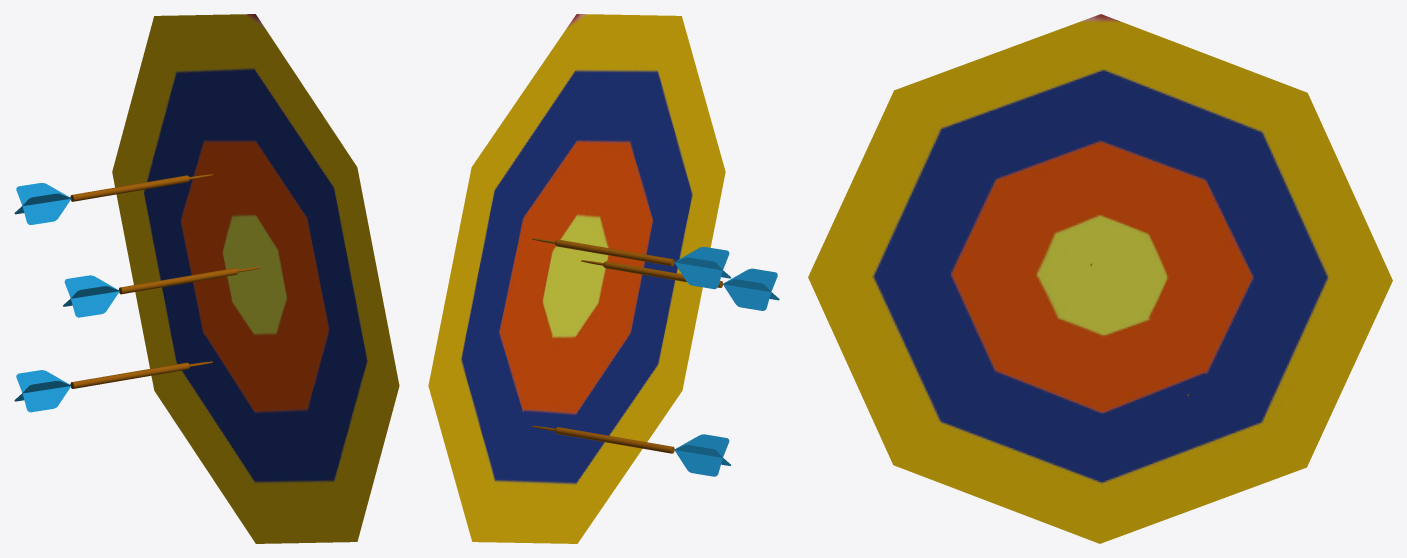
The model's file is tiroalblanco.fbx.
3 renders of one model, left to right at view 1: azimuth 30°, elevation 25°; view 2: azimuth 150°, elevation 25°; view 3: azimuth 270°, elevation 25°, orthographic.
Parts seen in each view (by area): view 1: polySurface1; view 2: polySurface1; view 3: polySurface1.
Part boxes in pixels (left/top/right/bottom): polySurface1: left=14, top=14, right=399, bottom=543; polySurface1: left=428, top=14, right=779, bottom=543; polySurface1: left=808, top=14, right=1392, bottom=543.
Size of the model in its own units: 1.62 by 4.21 by 4.21.
